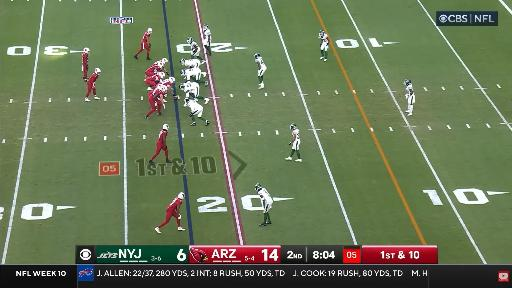Helmet: (161, 57, 169, 65), (157, 84, 166, 91), (168, 76, 175, 83), (160, 85, 167, 92), (255, 184, 262, 191), (179, 83, 185, 91), (178, 192, 184, 199), (404, 79, 411, 85), (159, 72, 165, 78), (84, 48, 90, 54), (95, 68, 101, 74), (187, 37, 193, 43), (163, 124, 169, 130), (290, 124, 296, 129), (319, 30, 324, 36), (158, 62, 163, 68), (180, 59, 185, 65), (203, 24, 208, 30), (181, 69, 185, 76), (255, 53, 260, 58), (148, 28, 152, 34), (185, 97, 189, 103)
Jersey: (258, 188, 273, 203), (184, 82, 199, 96), (168, 197, 182, 210), (186, 68, 201, 79), (187, 101, 202, 111), (151, 88, 163, 100), (185, 59, 200, 68), (158, 130, 167, 144), (148, 63, 162, 71), (204, 29, 211, 45), (255, 56, 265, 67), (146, 74, 161, 81), (88, 73, 98, 83), (406, 84, 414, 96), (160, 79, 172, 86), (82, 52, 88, 66), (191, 41, 198, 53), (142, 32, 150, 42), (292, 128, 299, 139), (320, 34, 328, 43), (204, 29, 210, 38), (154, 60, 163, 65)
Player: (155, 192, 185, 233), (149, 124, 171, 164), (145, 84, 167, 119), (255, 184, 273, 226), (185, 98, 209, 125), (179, 82, 209, 103), (286, 124, 301, 162), (134, 28, 152, 59), (85, 68, 101, 101), (181, 68, 208, 86), (187, 37, 205, 64), (160, 77, 178, 99), (404, 79, 415, 115), (255, 53, 266, 89), (145, 72, 165, 90), (319, 30, 330, 61), (154, 58, 170, 75), (82, 48, 90, 81), (203, 24, 211, 56), (146, 62, 163, 76), (180, 59, 200, 69)
